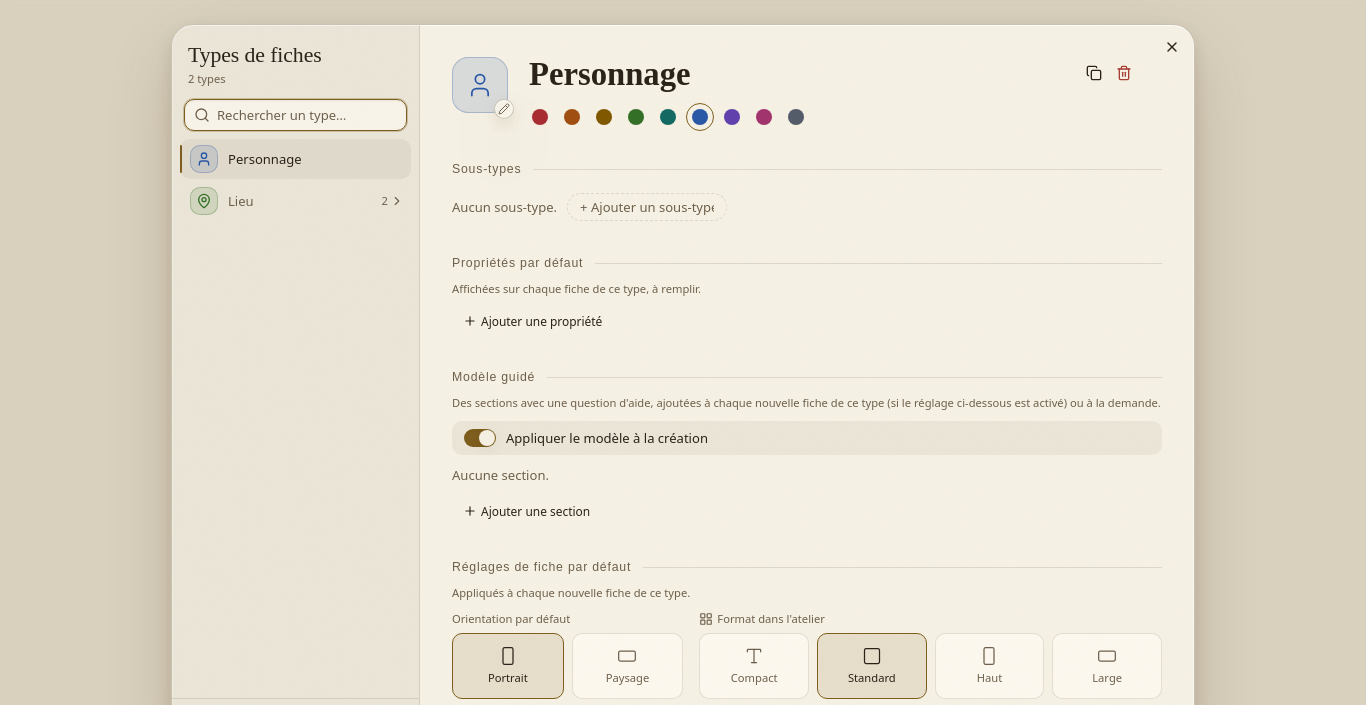
Test: the first type is selected; renaming saves without a button
Replace the text in the field named "Nom du type" with "Héros". click: [794, 74]
box: [524,53,1064,95]
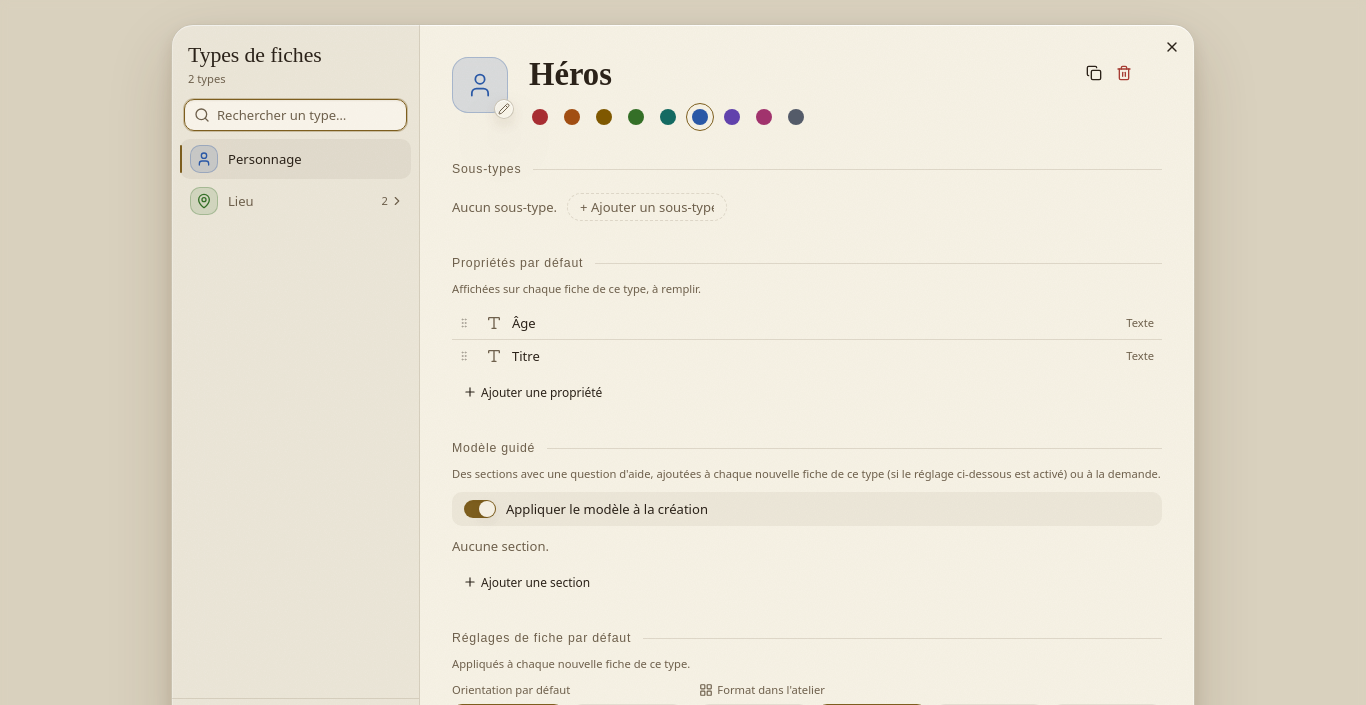
Leave the field named "Nom du type", box [524,53,1064,95]
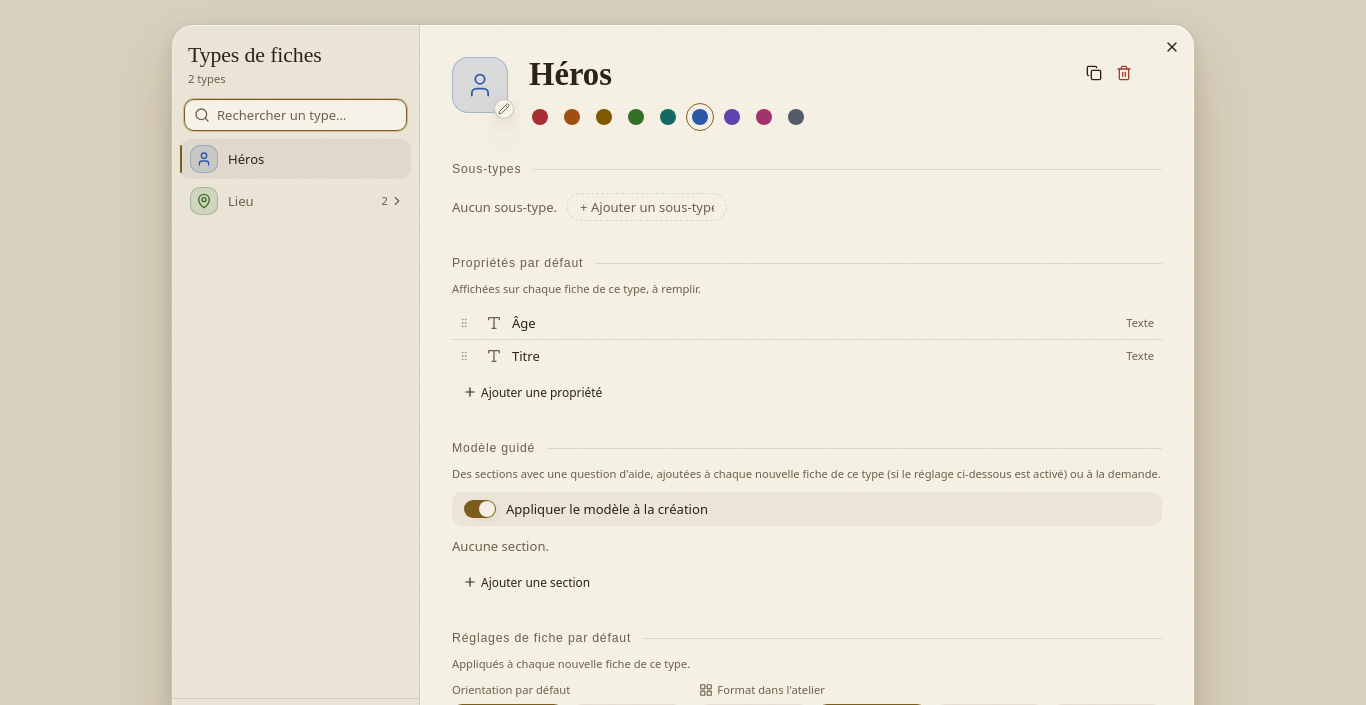
Expected: the button "Héros" is shown, [180,139,411,179]
